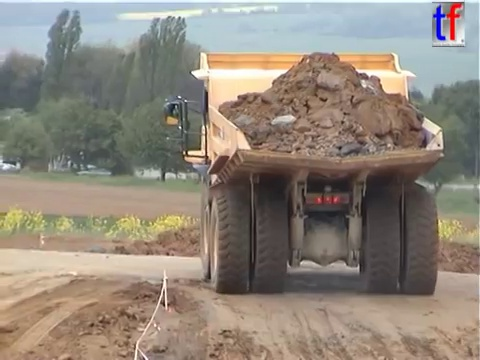truck: (161, 49, 446, 297)
